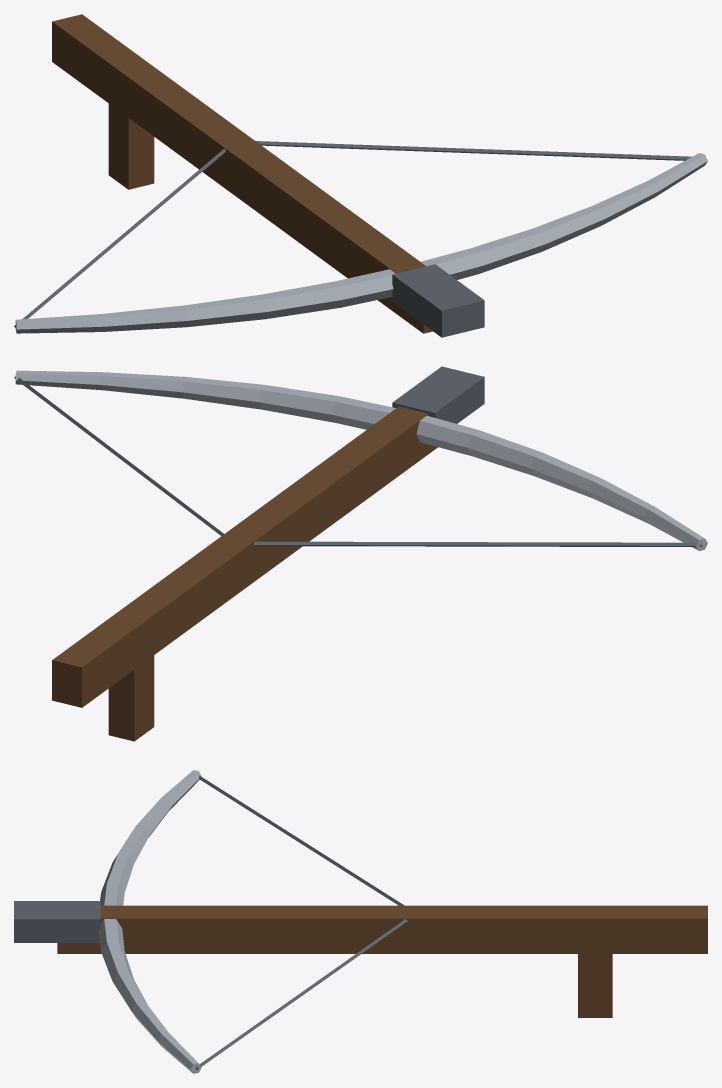
Rendered from g-crossbow-heavy.glb.
The picture shows the model from 3 angles, top to bottom: view 1: azimuth 30°, elevation 25°; view 2: azimuth 150°, elevation 25°; view 3: azimuth 270°, elevation 25°; orthographic projection. The views are drawn at different scales.
Parts seen in each view (by area): view 1: g-crossbow-heavy; view 2: g-crossbow-heavy; view 3: g-crossbow-heavy.
Boxes of the visible parts, bbox=[...] form: g-crossbow-heavy: bbox=[14, 14, 707, 337]; g-crossbow-heavy: bbox=[14, 366, 707, 741]; g-crossbow-heavy: bbox=[14, 770, 707, 1073].
Size of the model in its own units: 0.8057 by 0.13 by 0.8.
